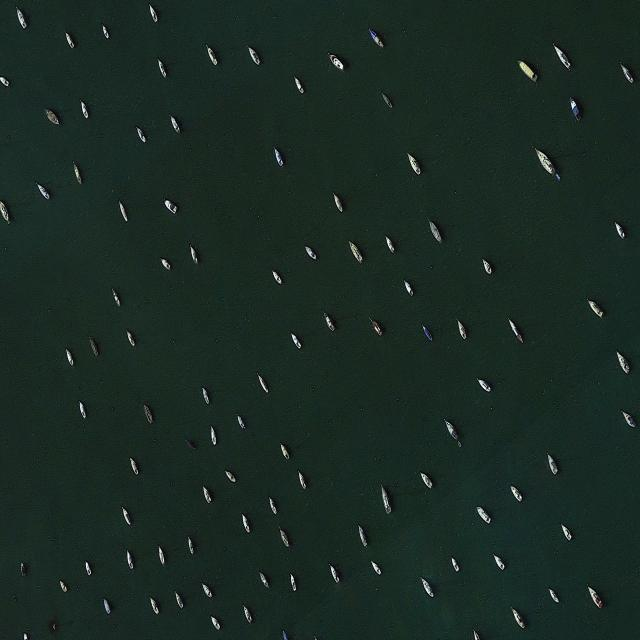ship: (534, 147, 556, 177), (552, 42, 572, 72), (517, 60, 538, 84), (427, 216, 442, 246), (587, 584, 603, 610), (618, 59, 634, 85), (508, 317, 524, 343), (348, 240, 363, 266), (586, 299, 604, 319), (510, 604, 525, 628), (368, 28, 384, 50), (406, 152, 421, 175), (327, 52, 344, 72), (616, 350, 630, 374), (444, 418, 458, 441), (15, 6, 28, 30), (382, 484, 392, 515), (420, 576, 434, 598), (247, 44, 261, 66), (474, 506, 490, 524), (570, 97, 582, 121), (278, 524, 290, 548), (44, 108, 60, 126), (205, 44, 218, 66), (368, 316, 382, 336), (621, 410, 636, 428), (36, 182, 50, 201), (547, 452, 558, 476), (256, 372, 268, 394), (169, 113, 181, 135), (72, 160, 82, 186), (323, 311, 335, 332), (0, 200, 10, 224), (358, 524, 368, 548), (118, 199, 128, 223), (456, 318, 466, 341), (163, 198, 177, 214), (333, 192, 343, 214), (157, 57, 167, 79), (144, 404, 154, 426), (493, 554, 505, 572), (560, 523, 572, 541), (510, 484, 522, 502), (290, 332, 302, 350), (476, 378, 491, 392), (330, 563, 340, 584), (420, 472, 432, 489), (384, 234, 394, 254), (174, 590, 184, 610), (202, 484, 212, 504), (274, 146, 284, 166), (64, 30, 74, 50), (112, 288, 122, 308), (122, 506, 132, 526), (80, 98, 89, 120), (224, 469, 237, 484), (548, 587, 560, 603), (380, 92, 392, 108), (305, 245, 317, 261), (271, 269, 283, 285), (614, 221, 624, 240), (294, 75, 304, 94), (280, 442, 290, 461), (136, 125, 146, 144), (482, 258, 492, 276), (404, 280, 414, 298), (422, 324, 432, 342), (150, 596, 159, 616), (149, 4, 158, 24), (90, 335, 98, 357), (237, 413, 246, 431), (371, 560, 381, 576), (259, 572, 269, 588), (202, 582, 212, 598), (242, 514, 250, 534), (298, 470, 306, 490), (190, 244, 198, 264), (66, 348, 74, 368), (130, 456, 138, 476), (126, 550, 134, 570), (269, 496, 277, 515), (210, 615, 220, 630), (126, 331, 136, 346), (451, 556, 460, 572), (244, 605, 252, 623), (202, 387, 210, 405), (104, 598, 112, 616), (102, 24, 110, 40), (59, 580, 68, 594), (158, 545, 164, 565), (188, 536, 194, 556), (211, 426, 217, 446), (160, 258, 170, 270), (79, 401, 86, 418), (85, 560, 92, 576), (290, 573, 296, 591), (0, 76, 9, 88), (21, 562, 26, 578), (556, 173, 560, 182), (458, 441, 462, 448)
